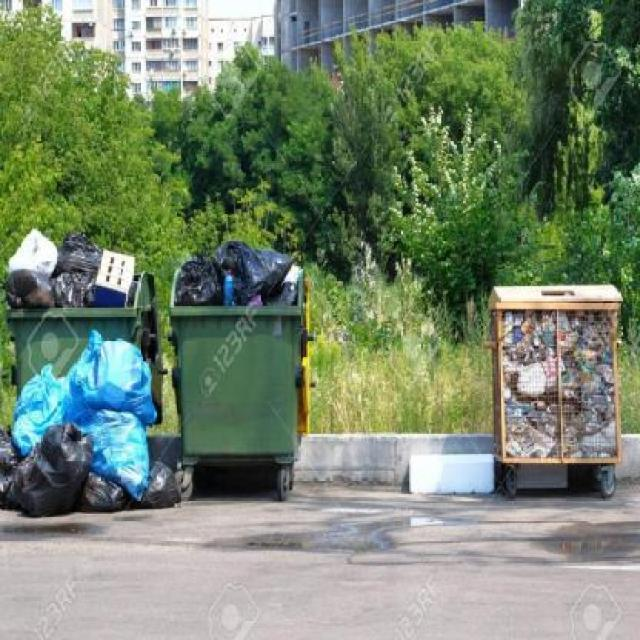garbage: (6, 228, 182, 522), (399, 442, 513, 533), (177, 236, 304, 312)
